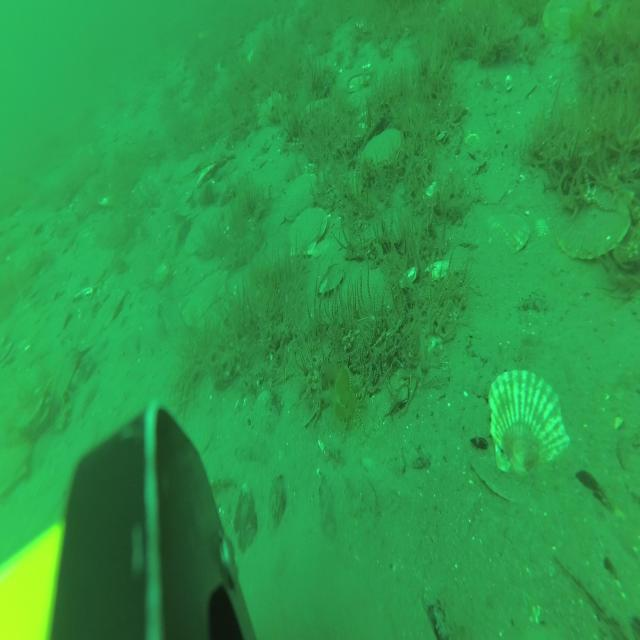scallop: (488, 370, 570, 481), (554, 174, 636, 261), (1, 379, 36, 505), (174, 267, 235, 329), (541, 0, 606, 44), (182, 202, 227, 260), (483, 208, 534, 256), (287, 207, 330, 260), (278, 171, 321, 221), (361, 126, 407, 170), (171, 150, 204, 184)
